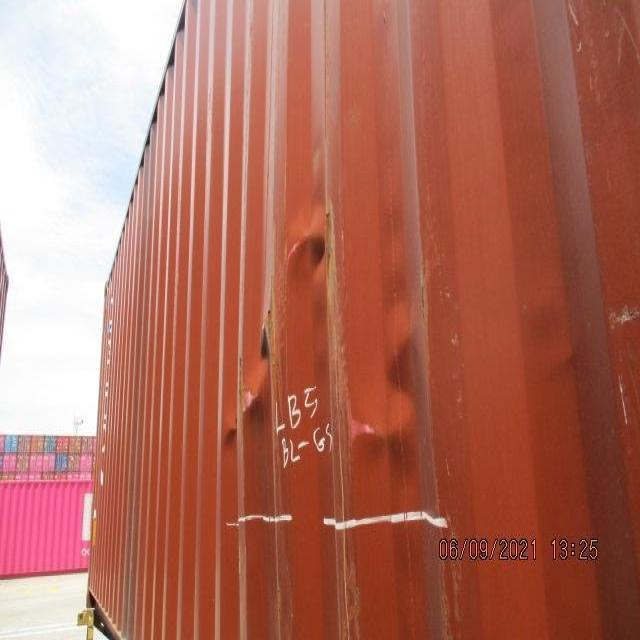dent: (217, 174, 476, 524)
